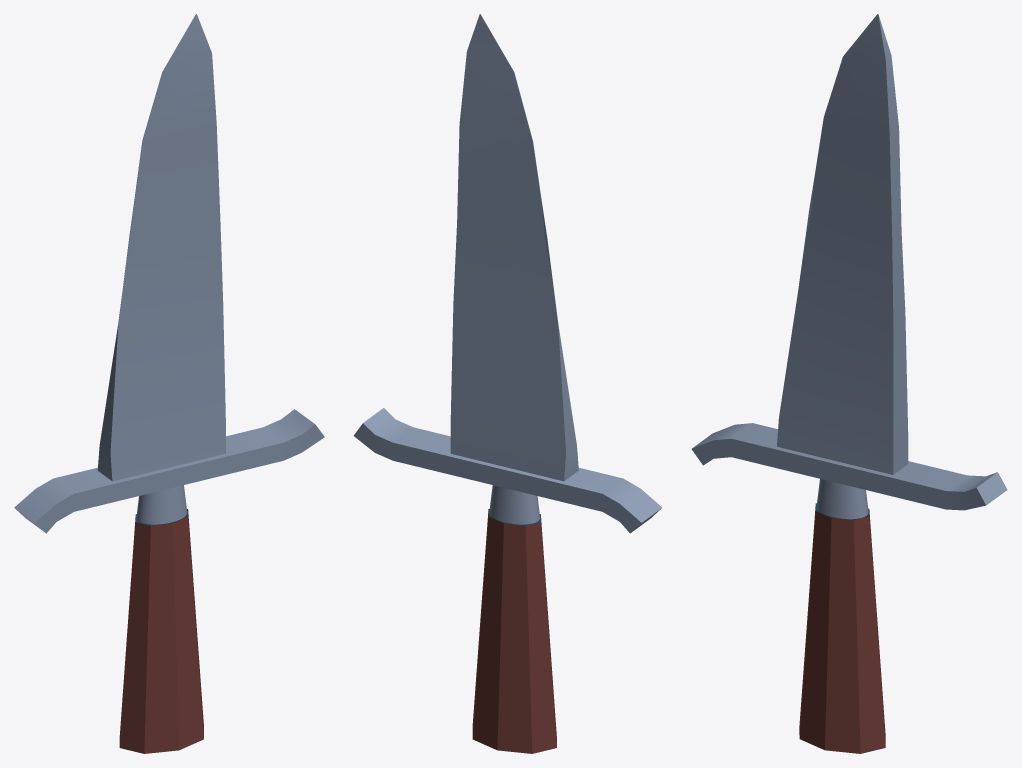
File: cuchilla.fbx
3 renders of one model, left to right at view 1: azimuth 30°, elevation 25°; view 2: azimuth 150°, elevation 25°; view 3: azimuth 330°, elevation 25°, orthographic. The views are drawn at different scales.
Visible parts, largest first — view 1: Faca.001; view 2: Faca.001; view 3: Faca.001.
Boxes of the visible parts, left/top/right/bottom form: Faca.001: left=14, top=14, right=324, bottom=753; Faca.001: left=353, top=14, right=662, bottom=753; Faca.001: left=691, top=14, right=1007, bottom=753.
Size of the model in its own units: 20.94 by 49.49 by 4.35.
Materials: 1 (1 with a texture image).
